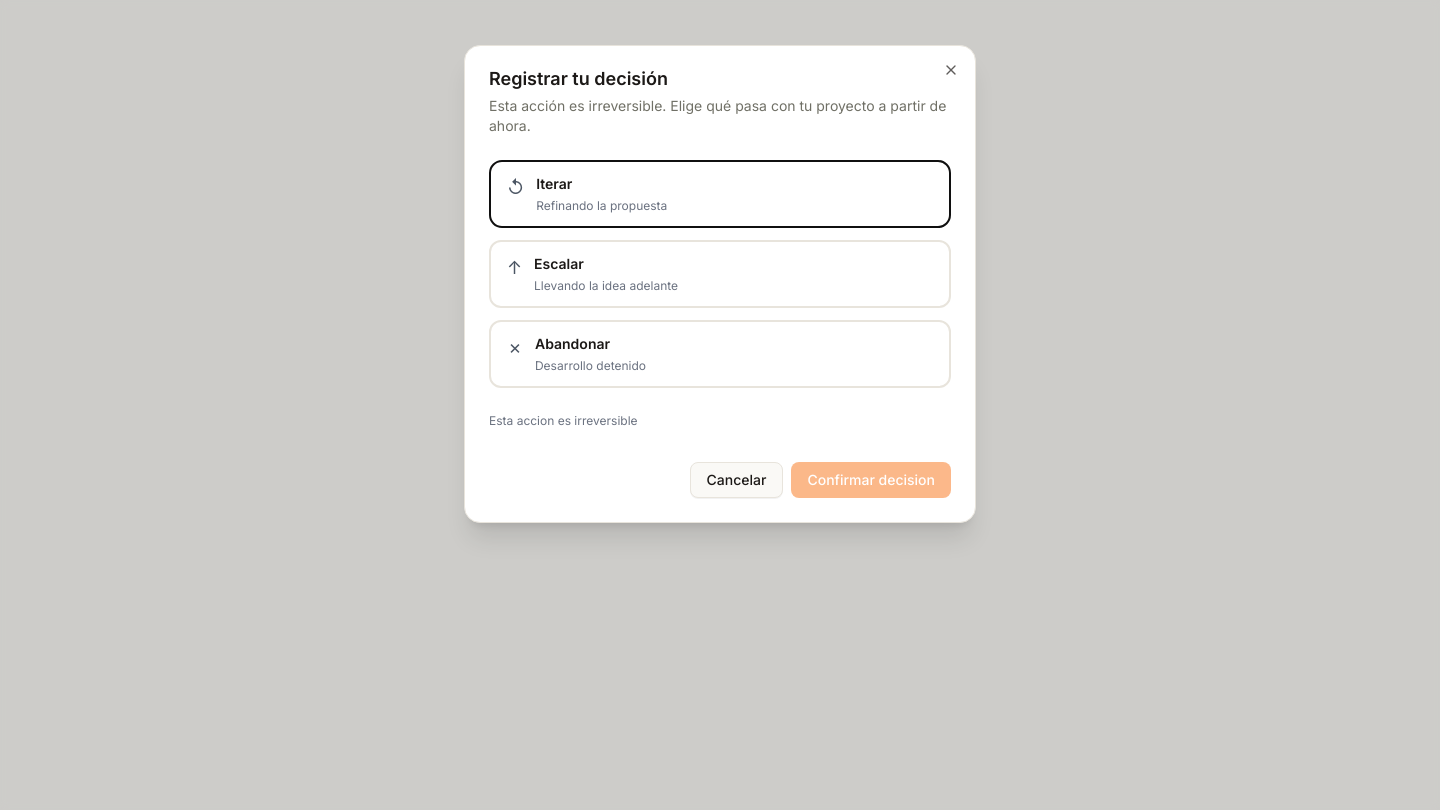
DecisionDialog — selección de decisión › al seleccionar una opción el botón "Confirmar decision" se habilita
Click the text "Iterar" at (554, 184), box [536,175,572,192]
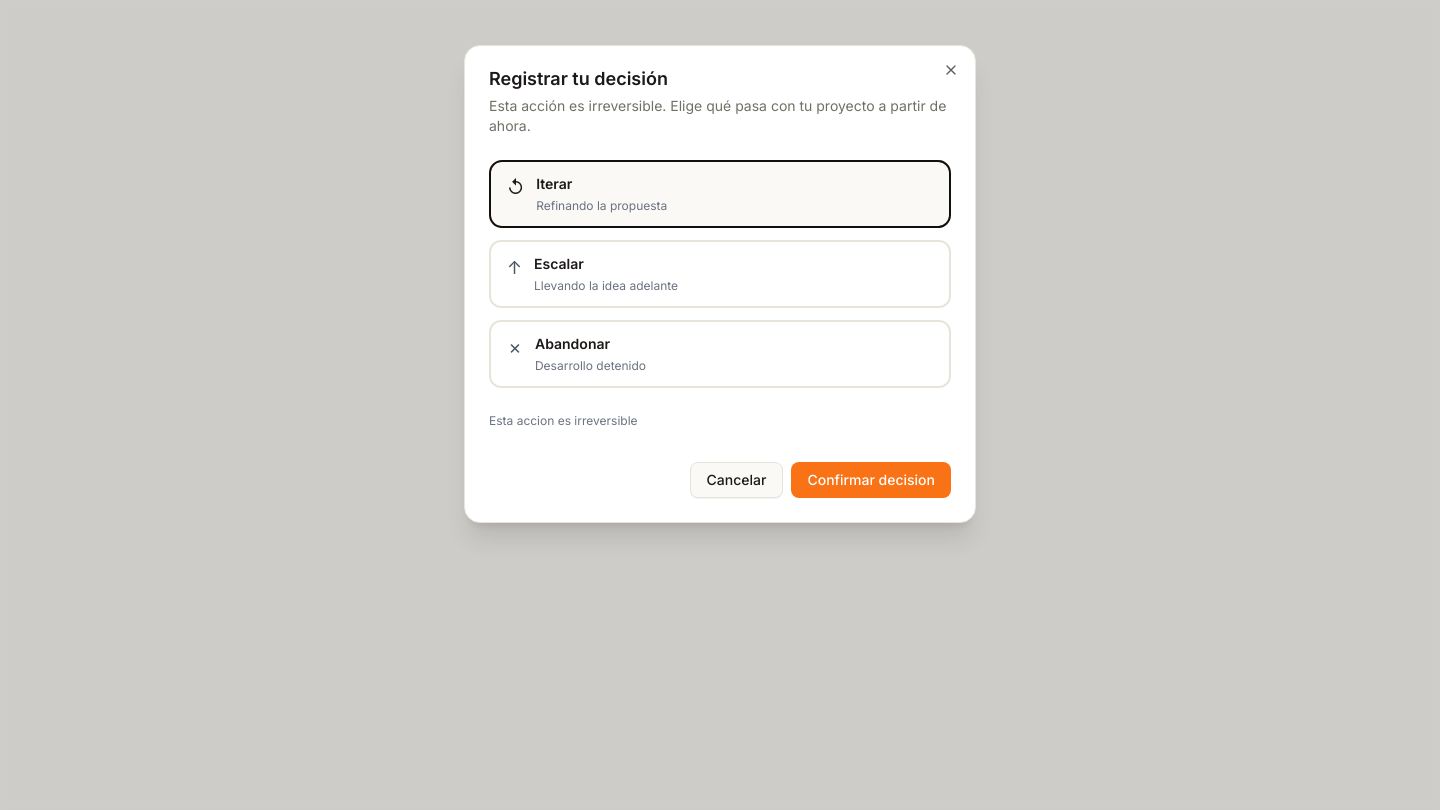
Now the button "Confirmar decision" is enabled, box [791,462,951,498]
